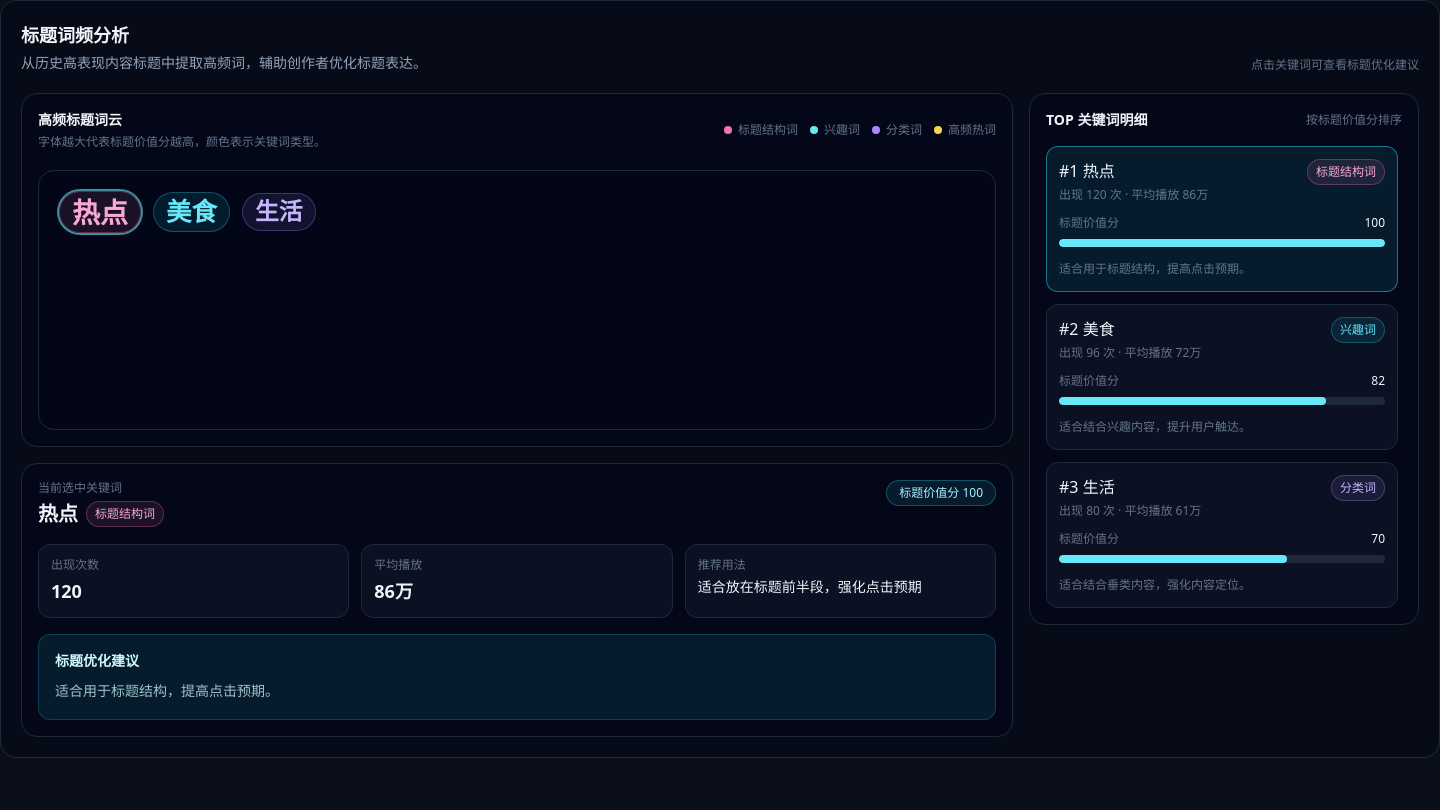
CreatorAssistantTitleKeywordSection › updates detail panel after clicking another keyword
Click the button "美食".
click(192, 212)  # box [153,192,230,232]
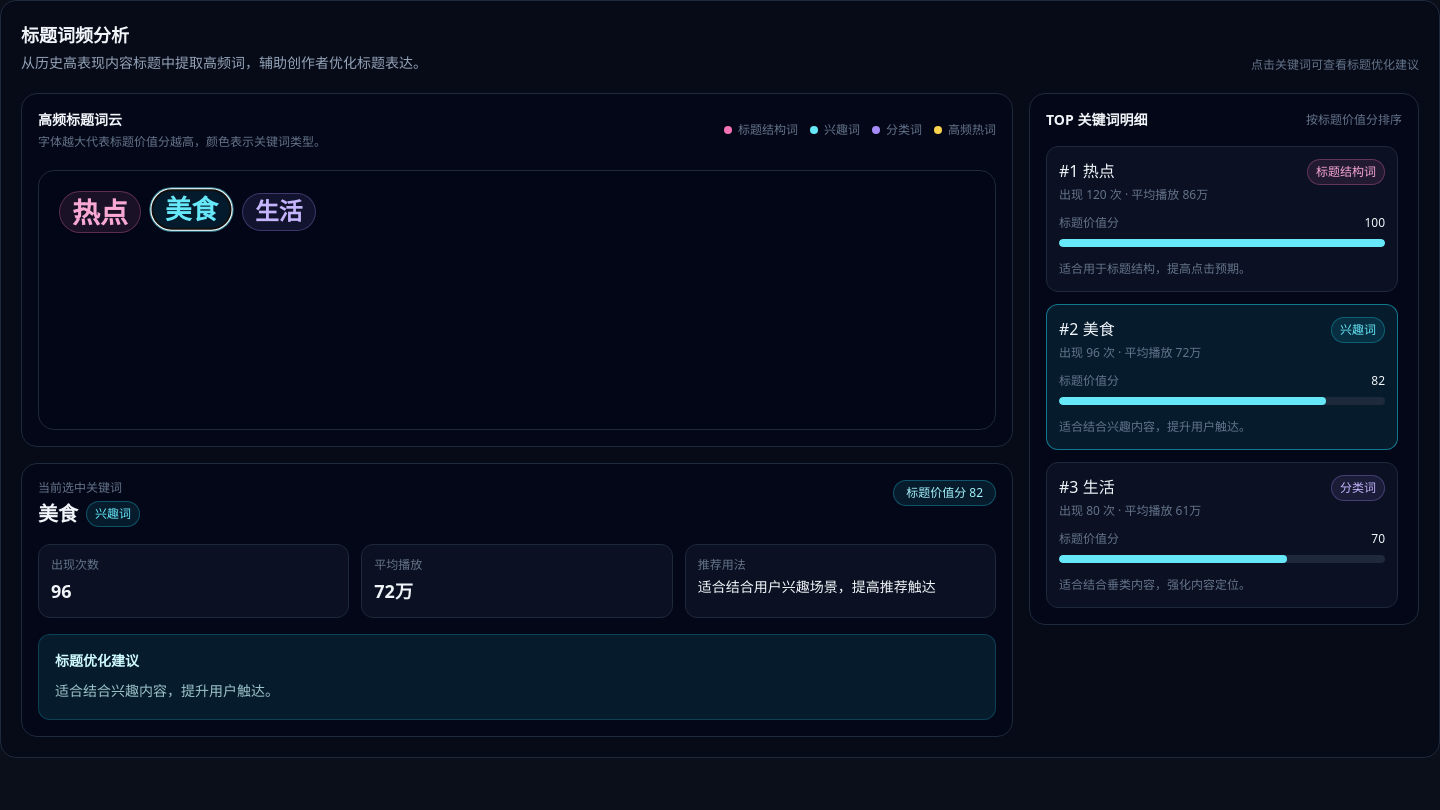
expect the text "标题价值分 82" is shown: met, box [893,480,996,506]
expect the text "适合结合兴趣内容，提升用户触达。" below "适合结合用户兴趣场景，提高推荐触达" is shown: met, box [55,681,279,700]
